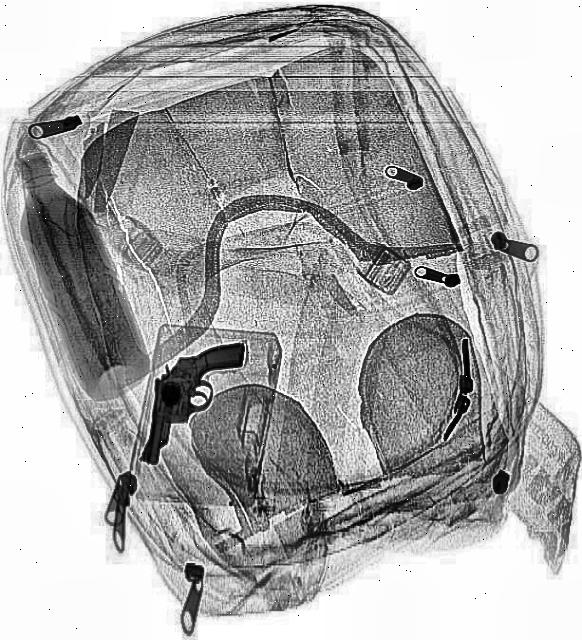Gun: (109, 320, 262, 472)
